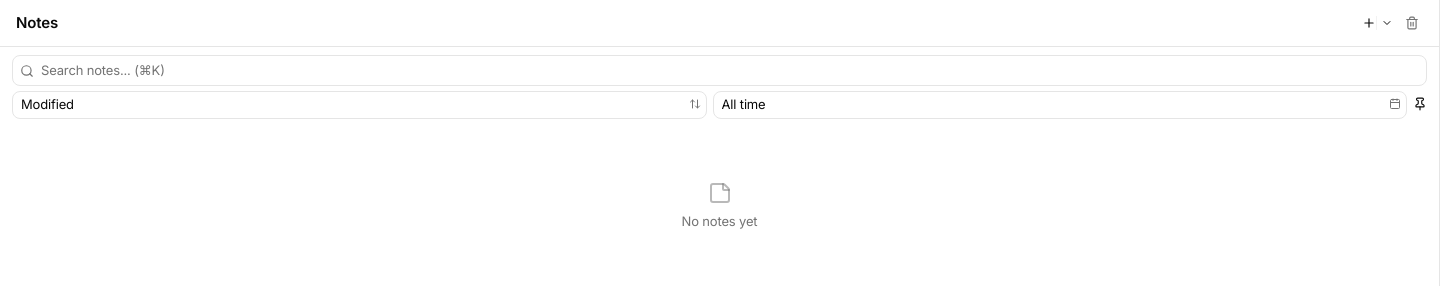
Scenario: trash mode › shows 'Trash is empty' when in trash mode with no trashed notes
What coordinates should you click on to do the following:
click the button named "trash"
I would click on:
 (1412, 23)
Its box is [1401,12,1423,34].
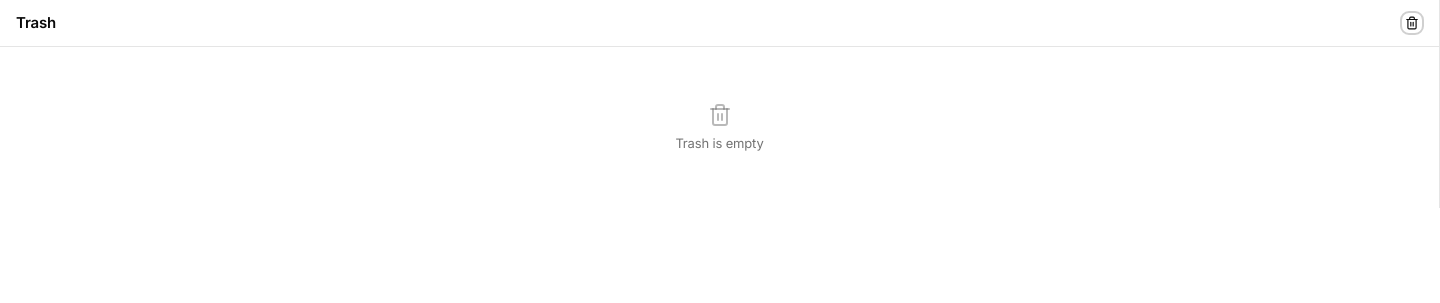
Expected: the text "Trash is empty" is shown, [675,135,764,152]
